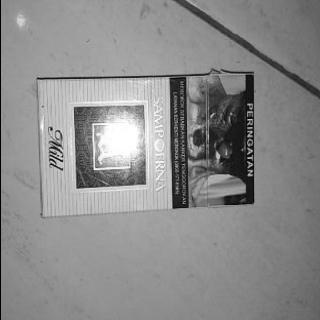objects: (36, 70, 254, 218)
